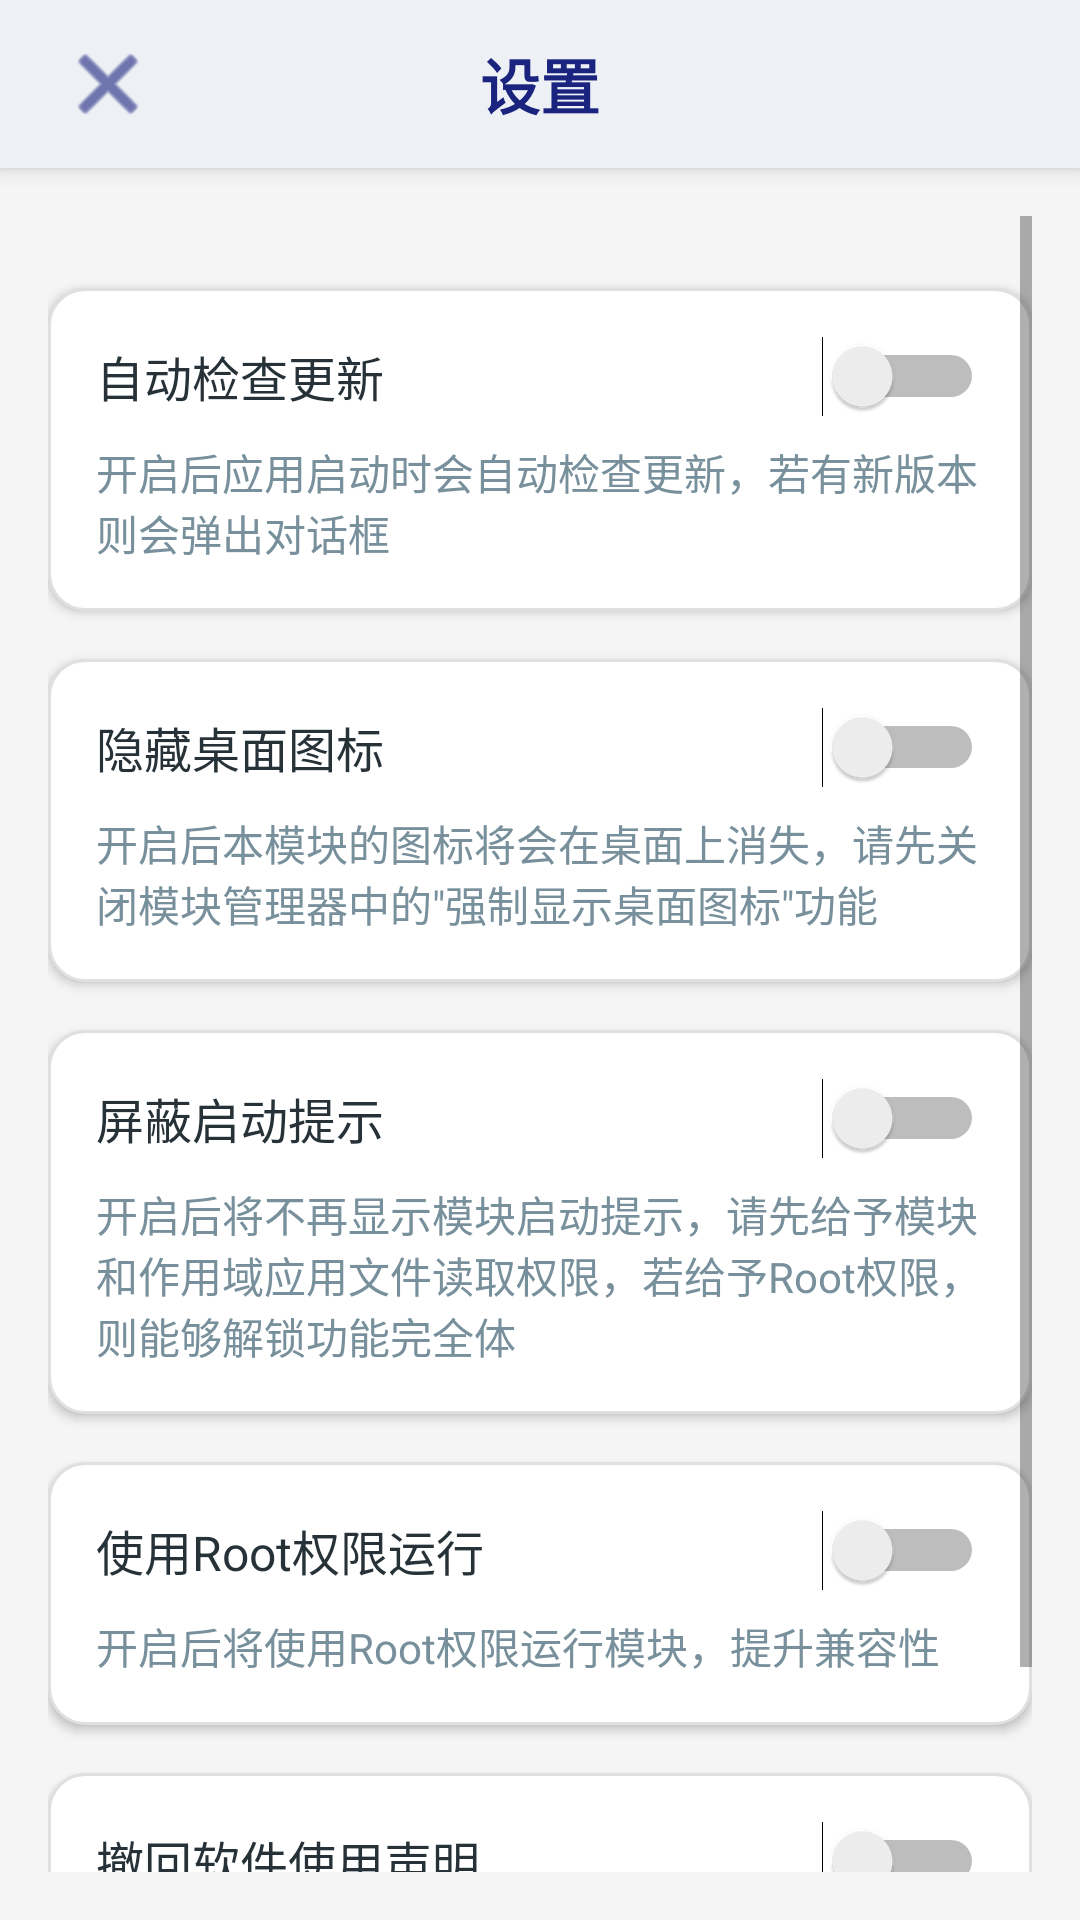

Named icons in this screenshot (1080px x 1920px) and their bounding boxes, (x1, y1, x2, y2):
close clear cancel: (78, 54, 138, 114)
